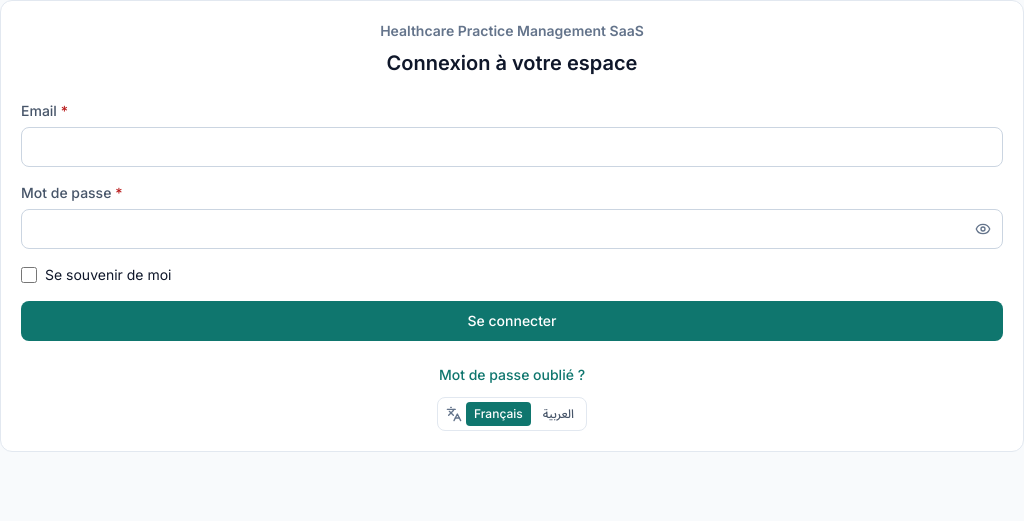
Test: LoginPage › shows required errors for empty email/password on submit
The width and height of the screenshot is (1024, 521).
Click the button "Se connecter": (512, 321) top-left (21, 301), bottom-right (1003, 341)
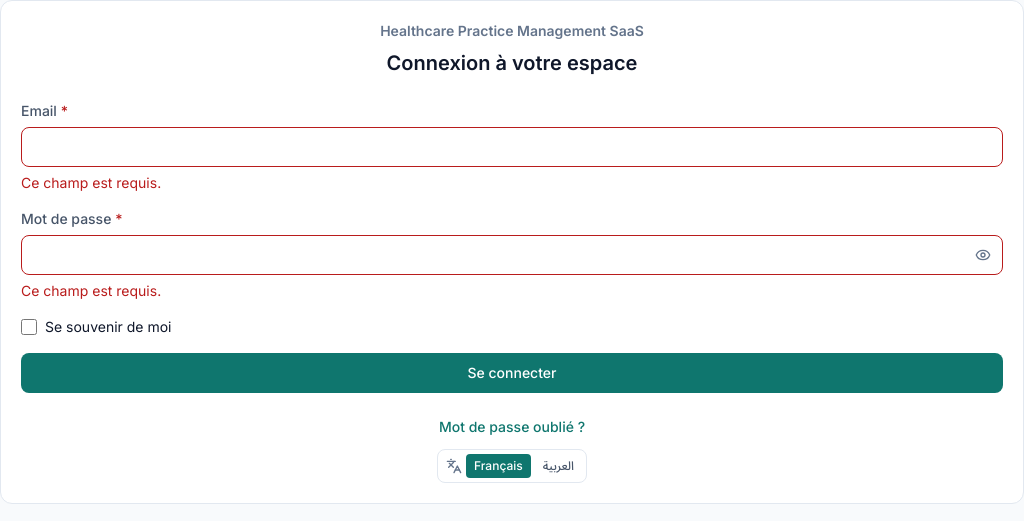
expect the text "Ce champ est requis." is shown 2 times: met, box top-left (21, 174), bottom-right (161, 191); top-left (21, 282), bottom-right (161, 299)
